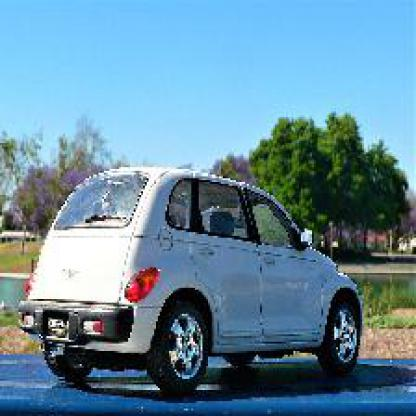not_emergency: (20, 146, 372, 408)
